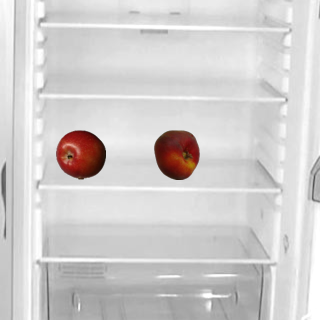Apple Braeburn: (55, 129, 105, 179)
Nectarine Flat: (151, 129, 201, 179)
